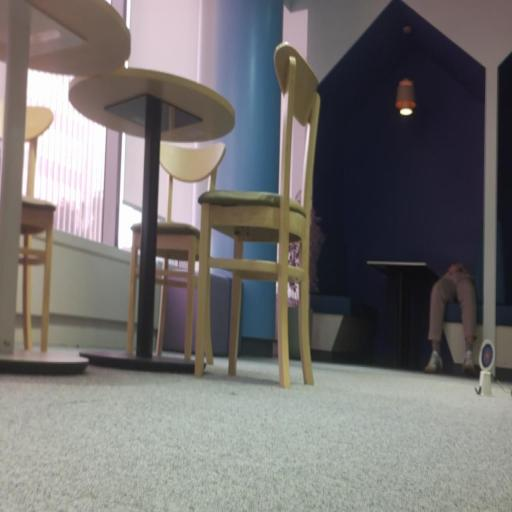target: (479, 339, 495, 371)
